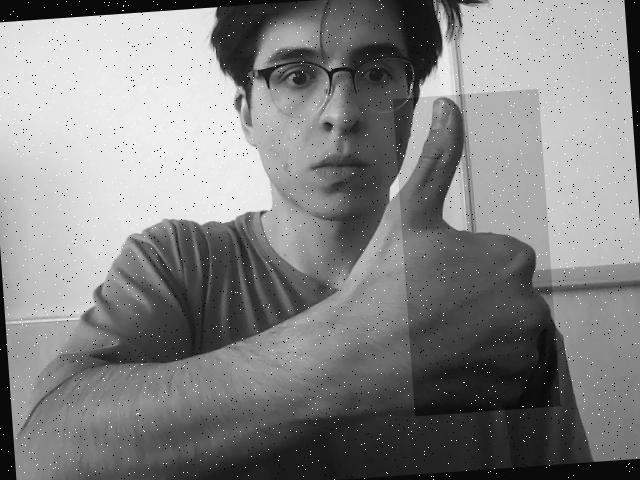good: (392, 88, 560, 416)
